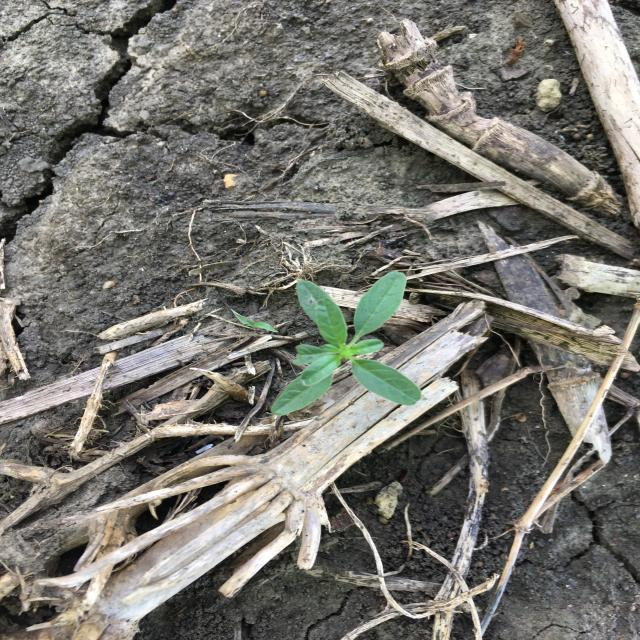Waterhemp: (270, 270, 424, 419)
